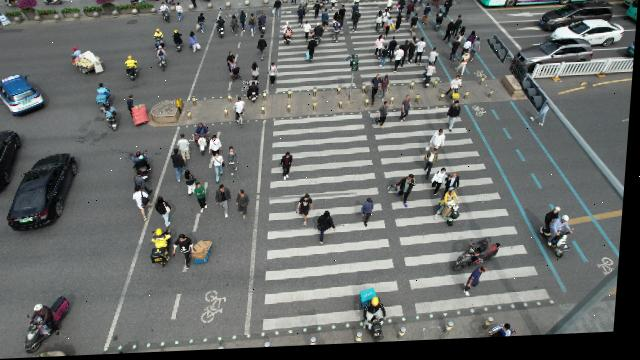non-motor-vehicle: (32, 296, 79, 341), (541, 211, 579, 265), (361, 291, 394, 345), (459, 241, 501, 276), (440, 194, 467, 231), (154, 230, 176, 269), (75, 46, 100, 74), (124, 57, 143, 83), (132, 152, 153, 174), (104, 106, 124, 129), (155, 47, 171, 73), (235, 102, 249, 129), (494, 329, 523, 342), (95, 84, 112, 106), (194, 126, 214, 143), (451, 81, 464, 107), (158, 3, 173, 25), (249, 79, 261, 105), (422, 69, 435, 89), (434, 13, 446, 34), (154, 30, 167, 49), (216, 18, 226, 39), (259, 15, 269, 36), (172, 33, 184, 50), (314, 27, 324, 46), (33, 0, 64, 6), (282, 25, 292, 43), (411, 18, 420, 37), (431, 53, 440, 68), (386, 2, 396, 14), (433, 0, 443, 11), (5, 0, 19, 7), (412, 0, 419, 14), (164, 0, 177, 6), (321, 0, 329, 9), (133, 0, 148, 4), (199, 0, 215, 3), (300, 1, 308, 7), (261, 0, 272, 1), (145, 0, 160, 0), (210, 0, 229, 0)
person: (180, 236, 218, 271), (128, 98, 152, 129), (134, 190, 156, 219), (470, 271, 493, 298), (321, 214, 339, 246), (219, 188, 236, 221), (157, 199, 175, 229), (172, 148, 188, 181), (239, 192, 256, 222), (300, 195, 313, 233), (363, 202, 380, 231), (226, 53, 243, 82), (228, 147, 244, 176), (400, 178, 420, 201), (281, 155, 296, 184), (432, 133, 449, 154), (178, 133, 194, 155), (197, 184, 211, 209), (428, 154, 443, 177), (214, 156, 227, 182), (456, 57, 470, 80), (187, 171, 199, 197), (450, 107, 462, 133), (378, 107, 390, 132), (402, 101, 413, 126), (211, 138, 224, 158), (450, 174, 465, 191), (259, 40, 270, 63), (231, 18, 243, 39), (322, 14, 332, 39), (436, 175, 447, 197), (333, 23, 343, 47), (395, 51, 404, 77), (238, 12, 249, 33), (541, 111, 553, 130), (371, 79, 379, 107), (269, 66, 279, 87), (374, 14, 385, 33), (410, 43, 418, 68), (188, 33, 199, 51), (134, 174, 149, 187), (417, 41, 425, 65), (376, 40, 385, 61), (403, 43, 411, 66), (383, 80, 391, 103), (396, 17, 405, 37), (385, 20, 394, 40), (444, 0, 453, 20), (308, 39, 315, 63), (448, 26, 456, 47), (304, 24, 313, 42), (249, 20, 258, 38), (199, 14, 207, 34), (176, 7, 185, 23), (250, 64, 260, 78), (274, 0, 281, 20), (383, 50, 390, 70), (453, 45, 460, 65), (296, 10, 305, 25), (474, 44, 482, 60), (424, 8, 430, 28), (313, 5, 320, 22), (465, 42, 474, 55), (354, 14, 360, 33), (187, 0, 199, 9), (408, 5, 413, 25), (398, 4, 405, 18), (460, 33, 468, 45), (389, 44, 398, 54), (331, 0, 339, 10), (383, 13, 389, 26), (456, 20, 463, 31), (353, 0, 362, 8), (352, 5, 359, 14), (342, 10, 347, 22), (288, 0, 297, 5), (420, 0, 427, 5), (471, 36, 478, 41), (399, 0, 407, 4), (335, 15, 340, 21), (346, 0, 349, 3)
